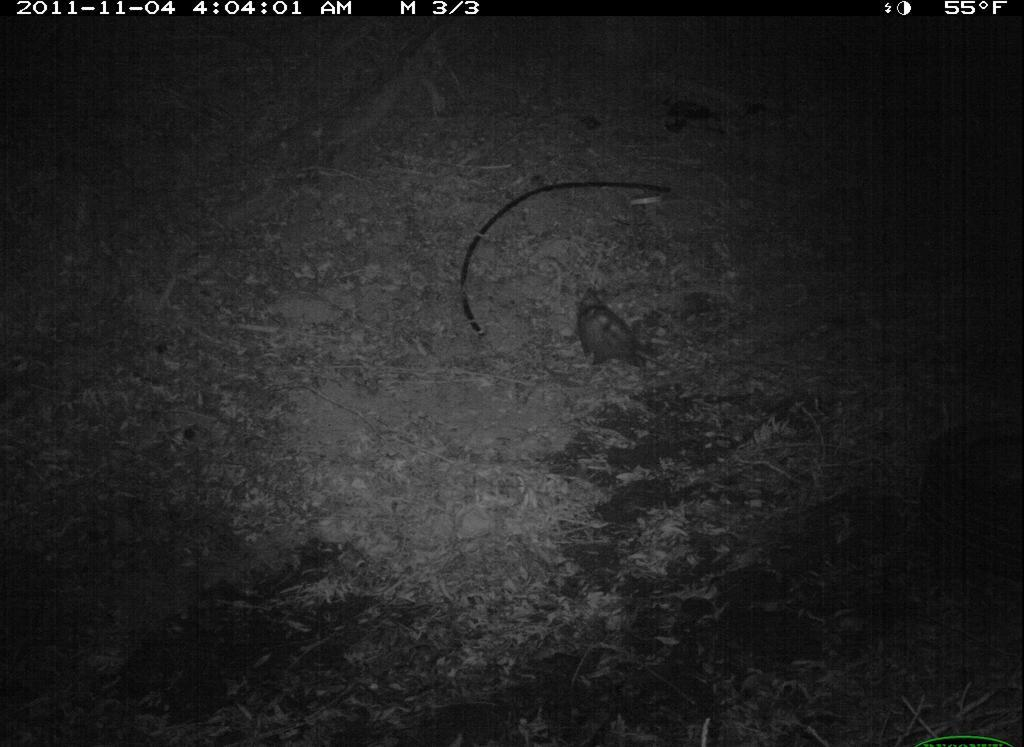opossum: (566, 277, 679, 386)
